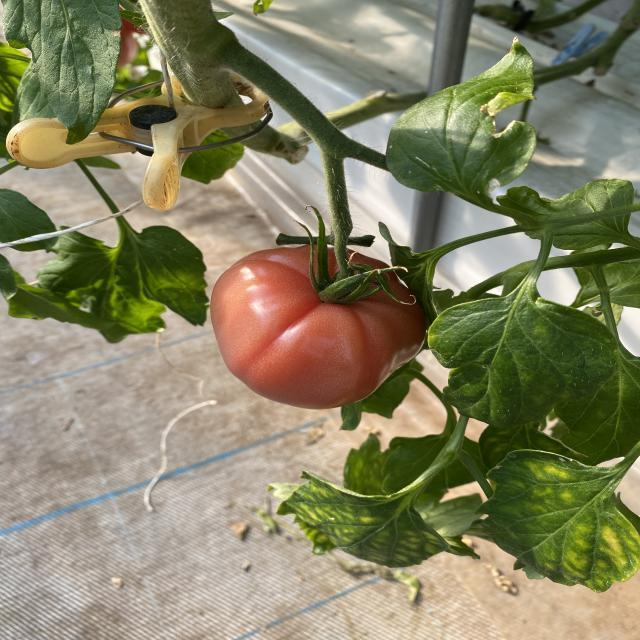n-riped: (210, 244, 426, 410)
